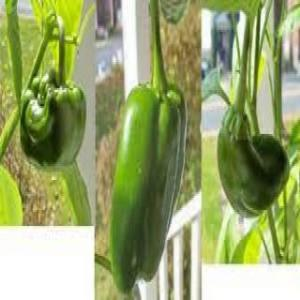bell_pepper: (106, 73, 188, 298), (212, 95, 294, 235), (18, 61, 86, 190)
